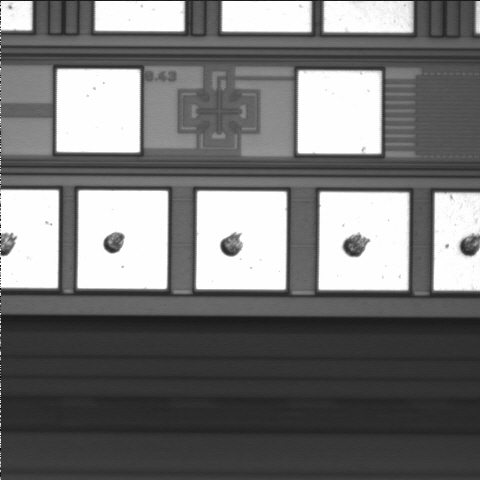pad: (77, 190, 168, 289), (196, 191, 287, 290), (319, 192, 409, 290), (57, 69, 140, 152), (298, 71, 381, 154)
